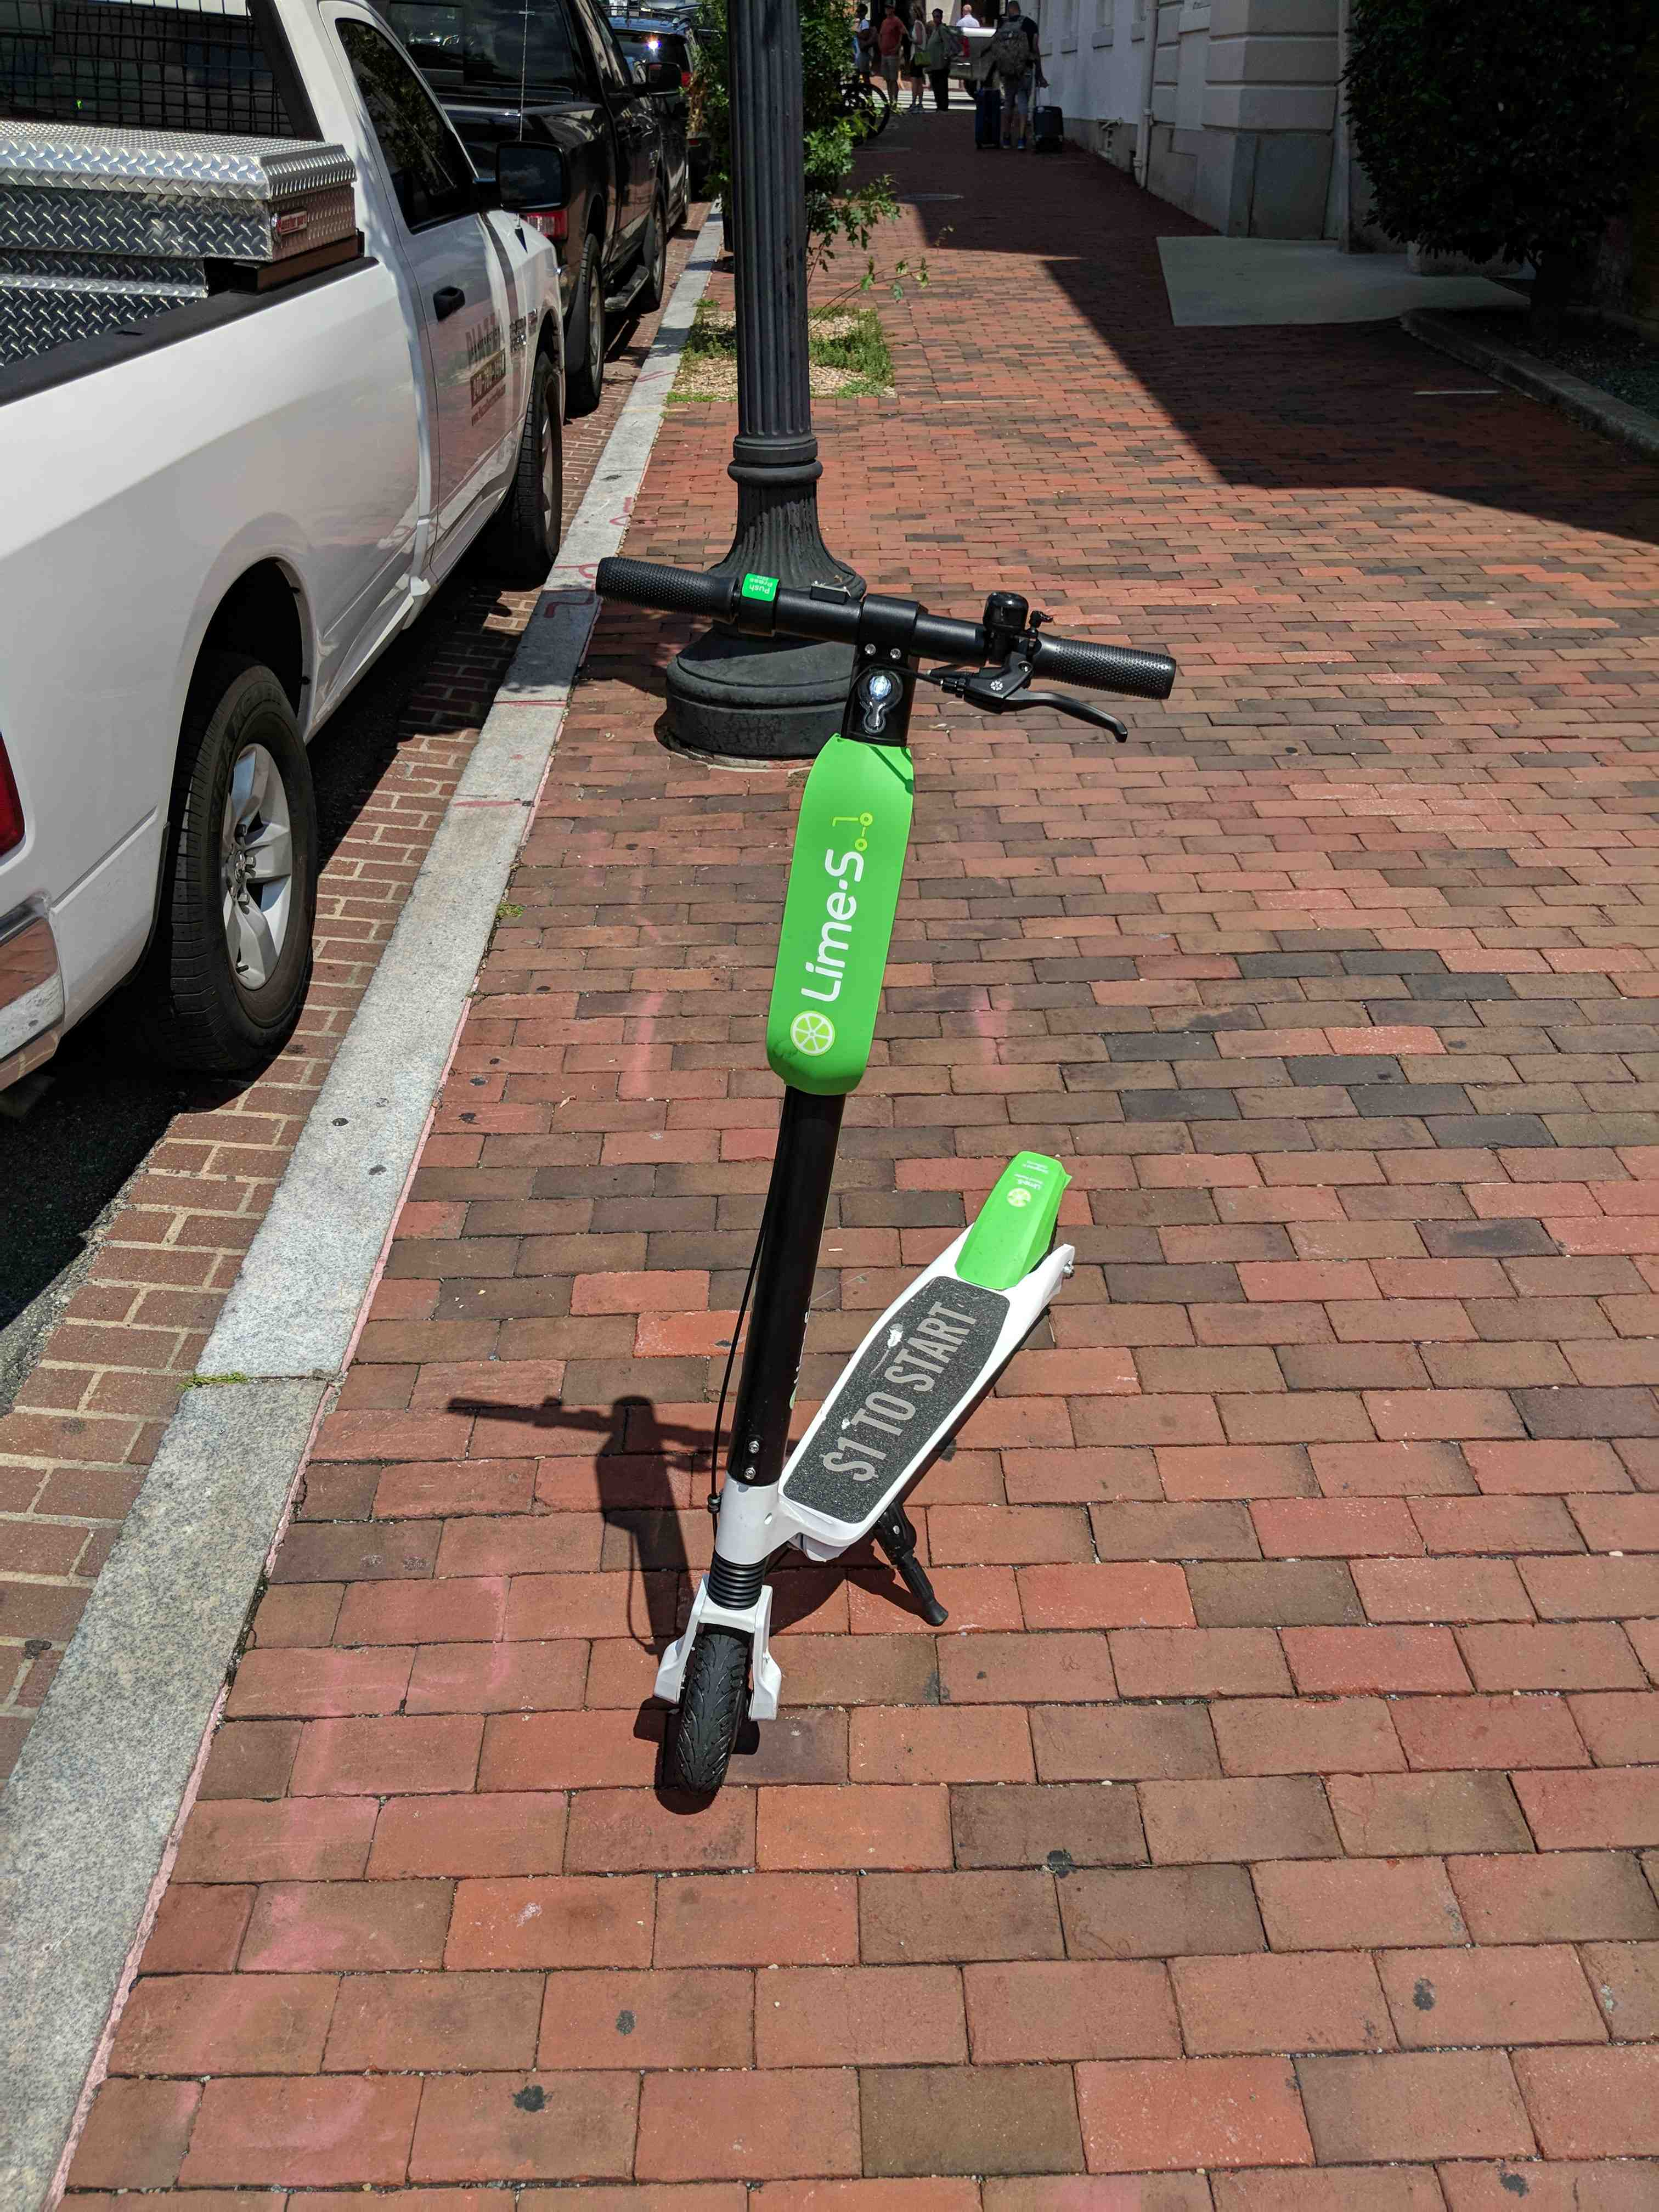scooter: (619, 556, 1197, 1897)
